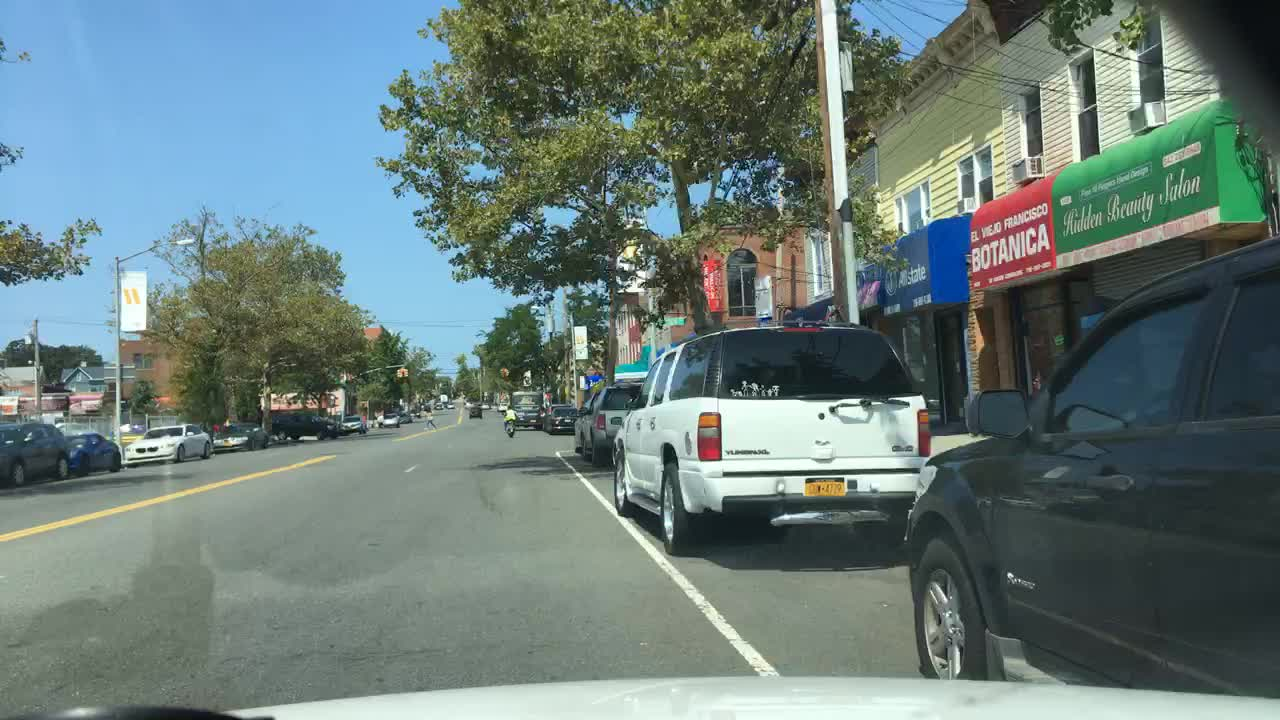car: (902, 235, 1278, 698), (608, 319, 934, 559), (572, 384, 648, 461), (0, 422, 69, 483), (120, 424, 211, 465), (209, 421, 270, 455), (269, 410, 339, 438), (63, 437, 120, 470), (511, 399, 542, 427), (545, 406, 576, 431), (338, 415, 368, 430), (378, 412, 401, 428), (468, 402, 482, 420), (497, 401, 508, 413), (401, 410, 412, 421)
motor: (502, 420, 518, 443)
person: (423, 409, 437, 429)
rider: (504, 402, 515, 429)
traffic light: (398, 366, 407, 379), (500, 366, 509, 376)
truck: (508, 392, 543, 410)
